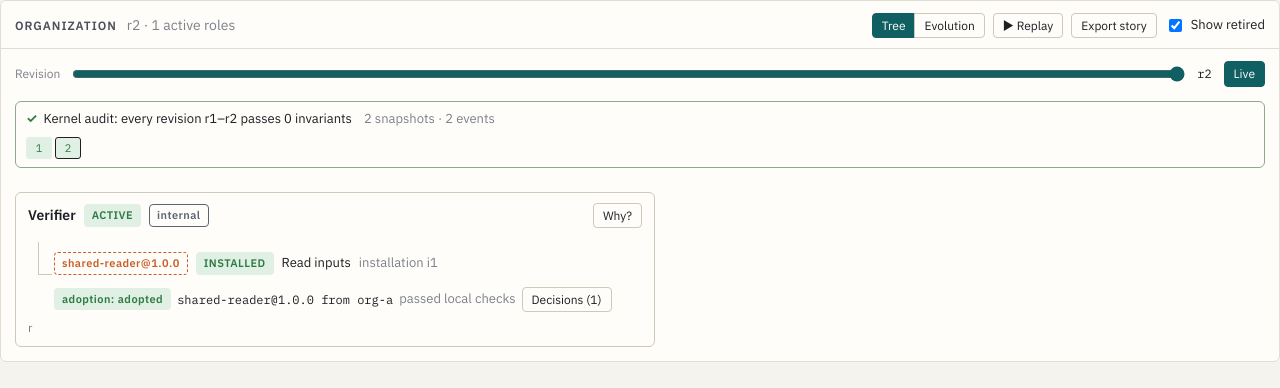
Test: independent: historical revision does not display a later live adoption result
This screenshot has width=1280, height=388.
Click the button "▶ Replay": (1028, 26) [993,13,1063,38]
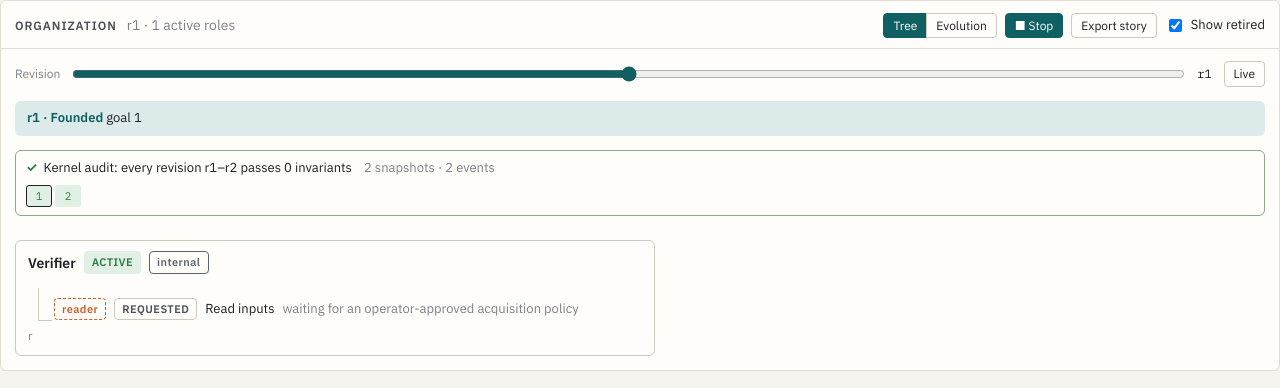
Now the element with class "replay" shows "r1", box [15,101,1265,136]
Now the element that starts with "Organization" shows "REQUESTED", box [122,302,189,316]
Now the text "adoption: adopted" is gone
